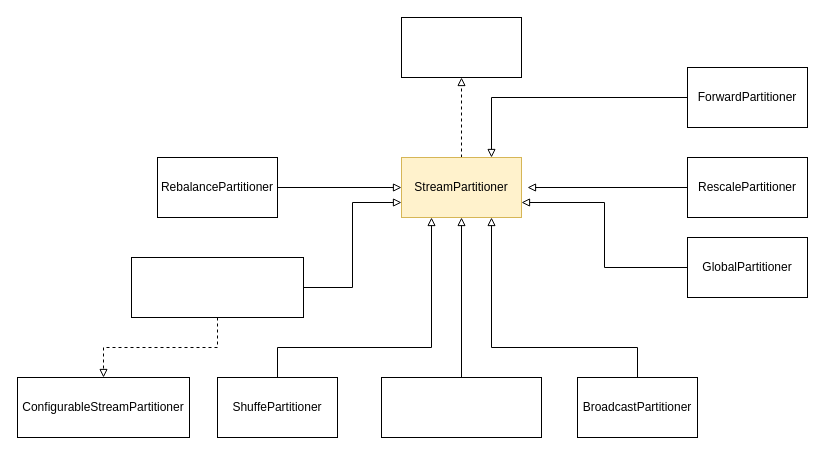
Image size: 825x455. Some labels were removed from this diagram. Here are the shapes that lost their labels. From the top down, the centre of each, then its label:
the point at 461,47: ChannelSelector
the point at 217,287: KeyGroupStreamPartitioner
the point at 461,407: CustomPartitionerWrapper
